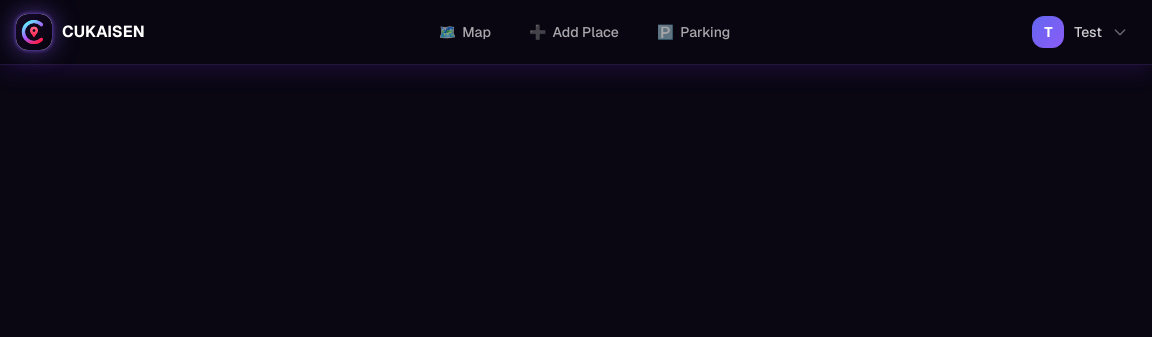
Test: Header token rendering › applies the cn-glass utility class to the dropdown menu
Click the button "T Test": (1080, 32) x1=1024 y1=10 x2=1136 y2=54
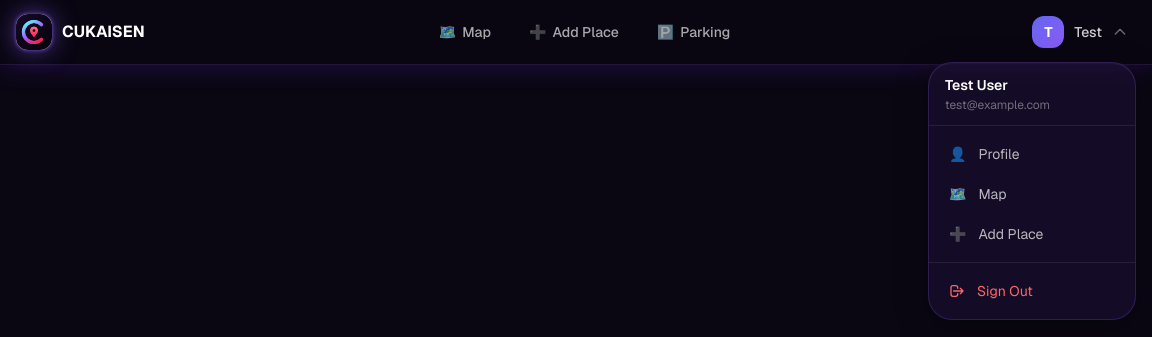
Result: the element with class "cn-glass" is shown at x1=928 y1=62 x2=1136 y2=320
